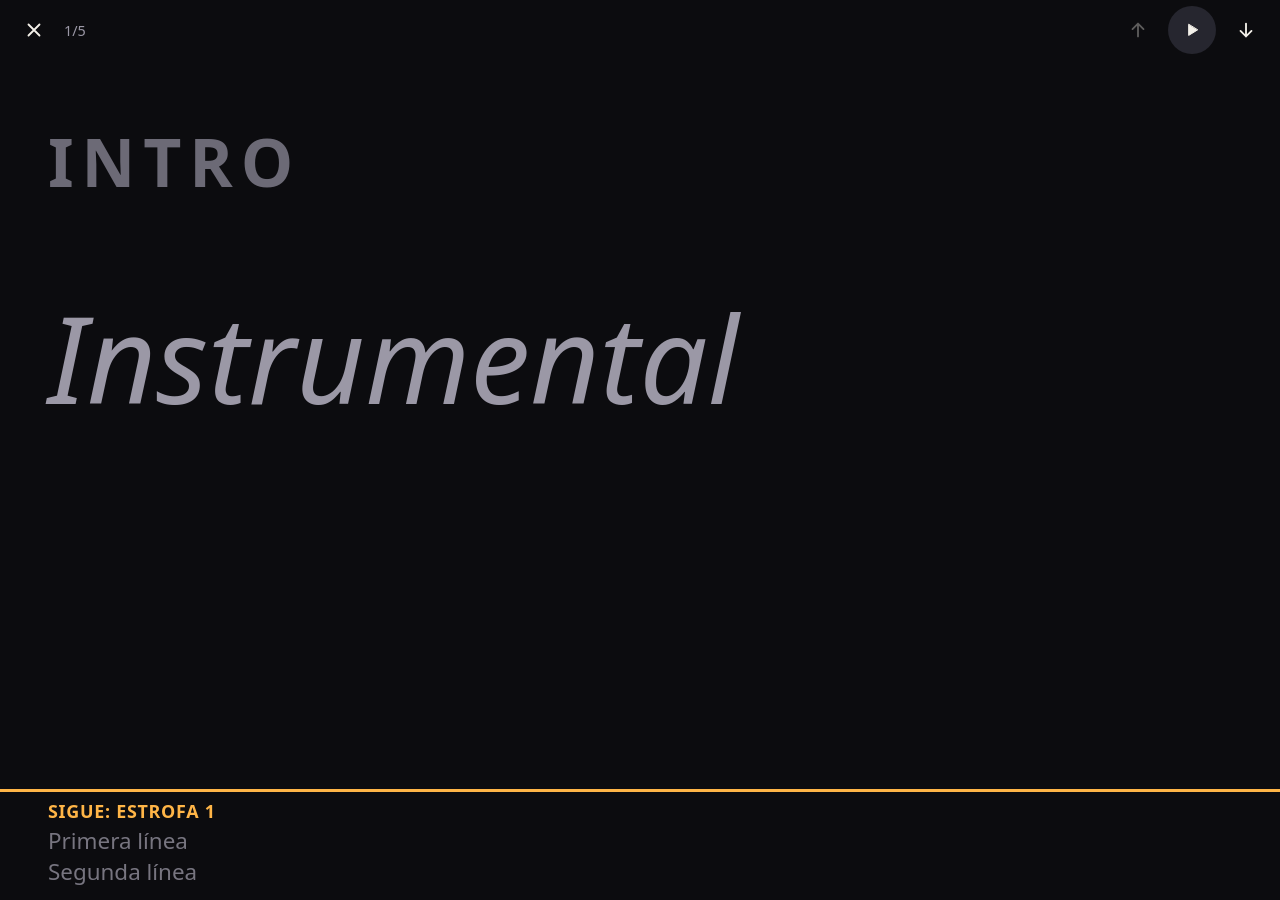
shows one part and the start of the next; tap and arrows move
This screenshot has width=1280, height=900.
Expected: the text "Instrumental" is shown, [48,276,739,439]
Click the element with test id "stage-sheet": (393, 278) [48,116,739,439]
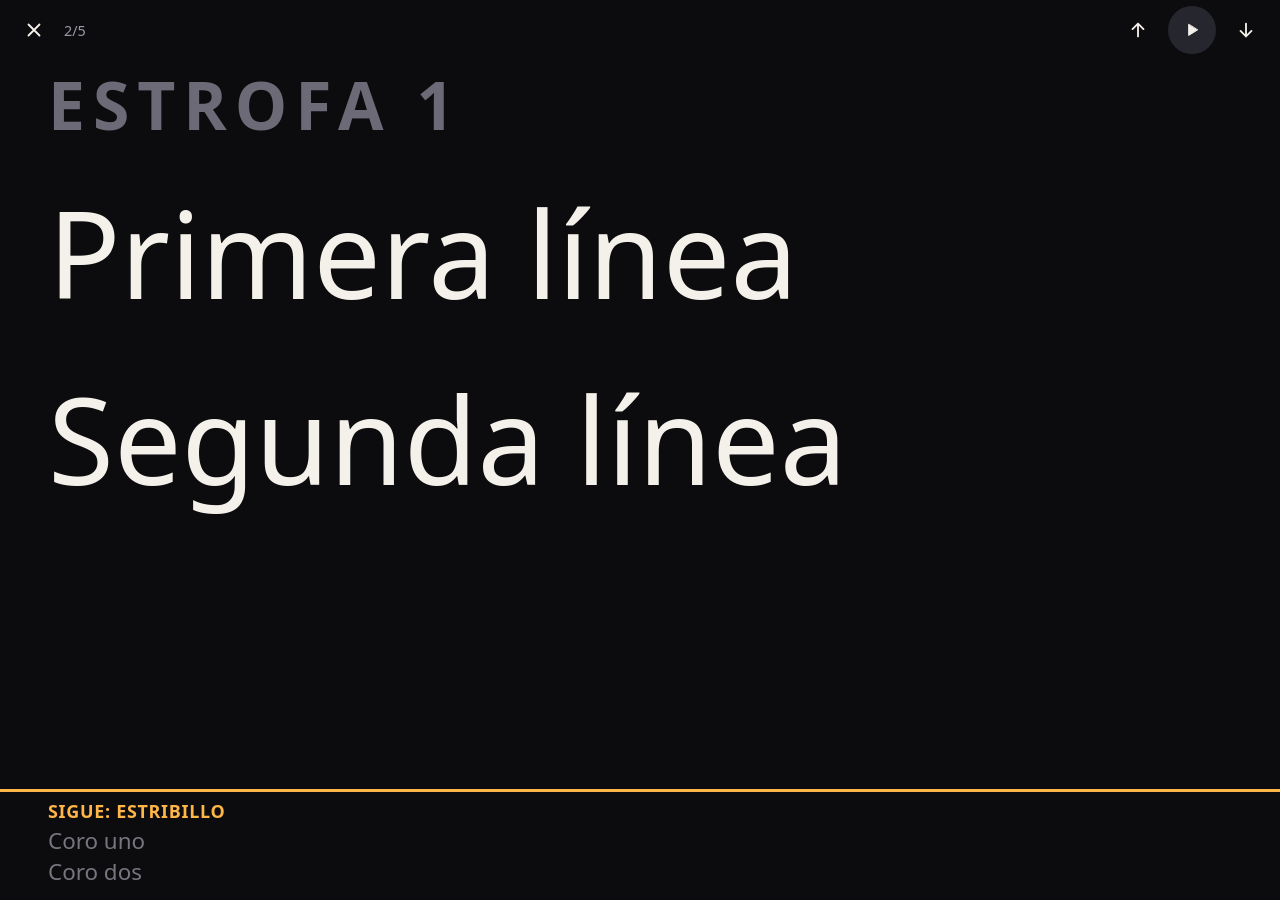
Expected: the text "Primera línea" is shown, [48,171,798,334]
Expected: the text "Sigue: Estribillo" is shown, [48,800,226,824]
Press ArrowDown
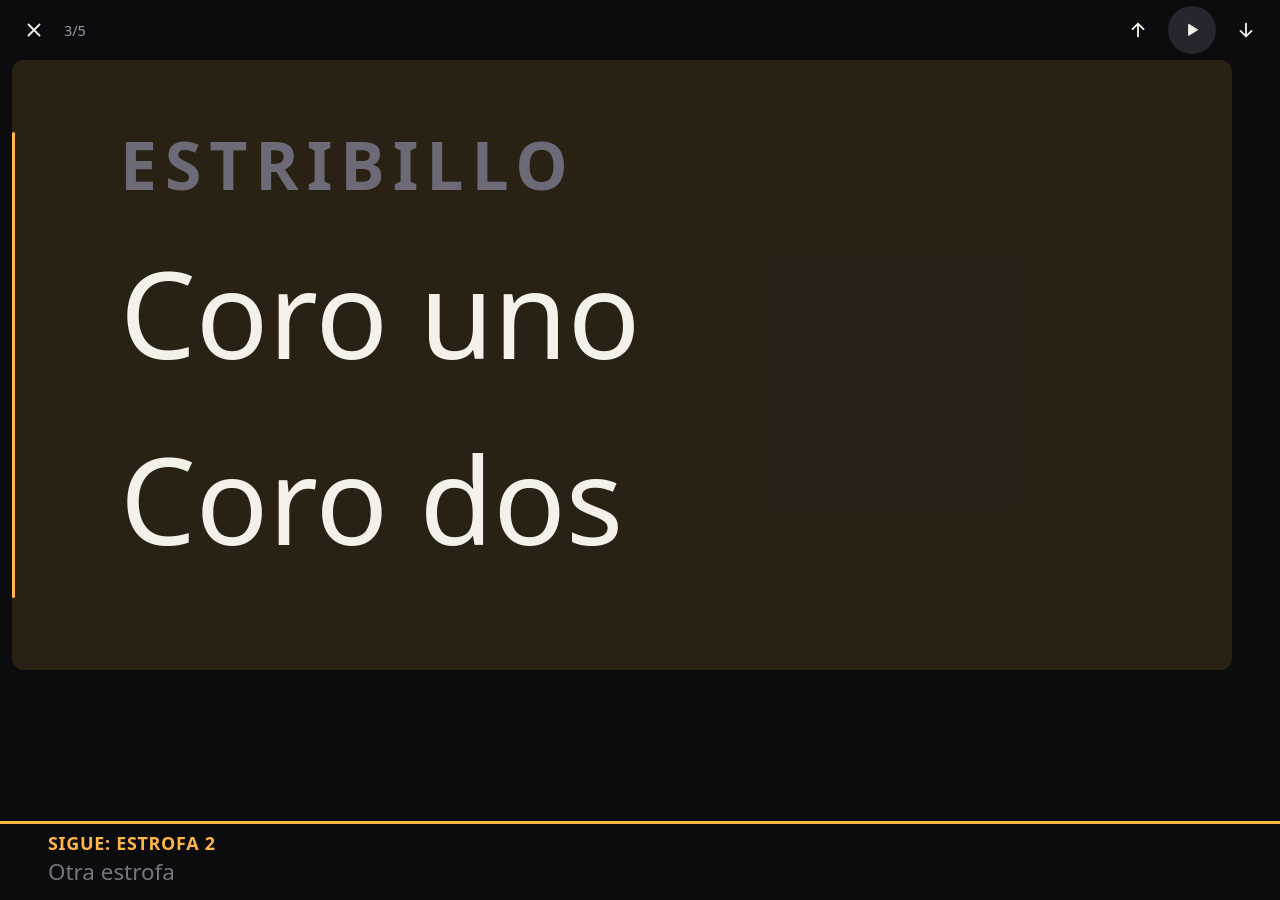
Expected: the text "Coro uno" is shown, [120,231,640,394]
Press ArrowUp
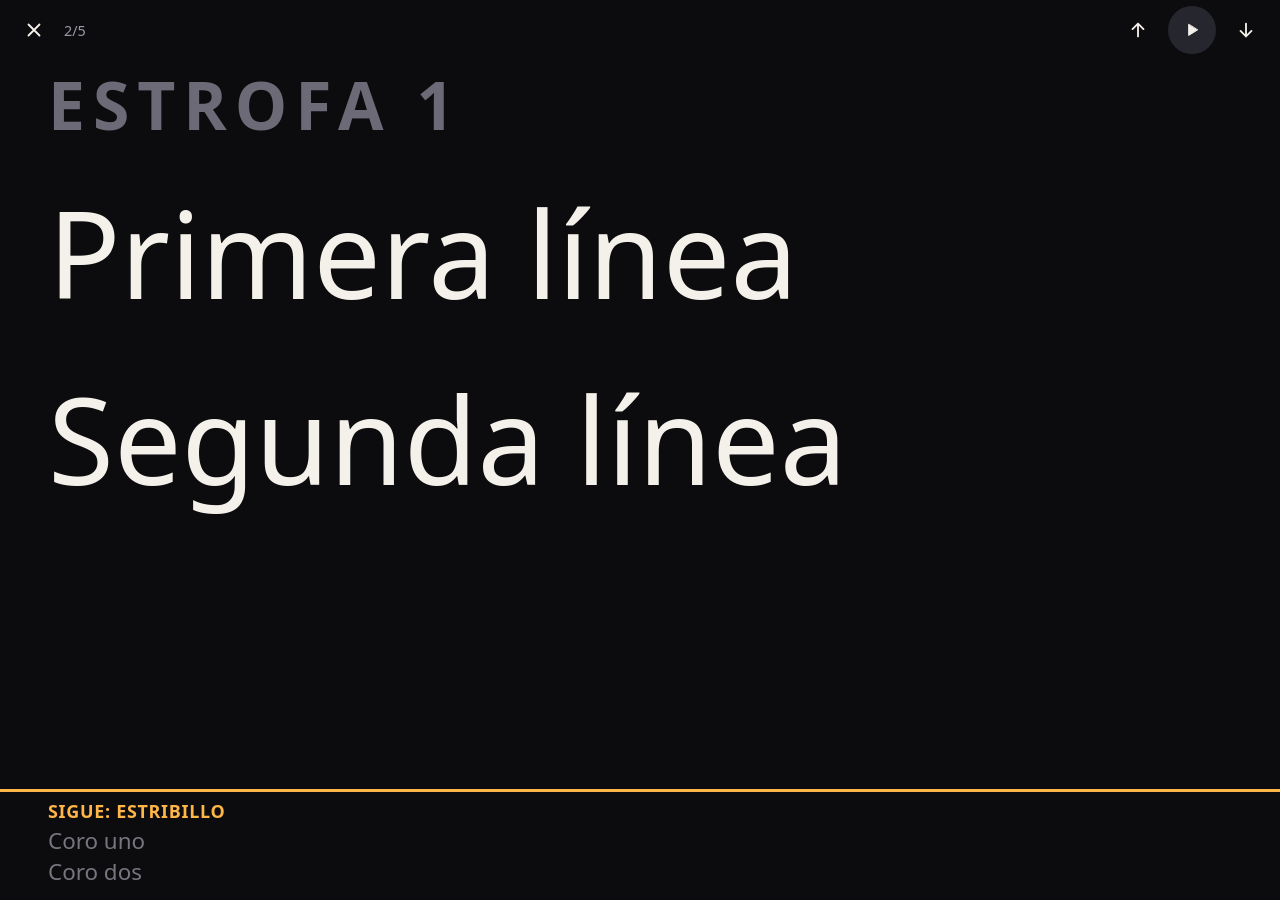
Expected: the text "Primera línea" is shown, [48,171,798,334]
